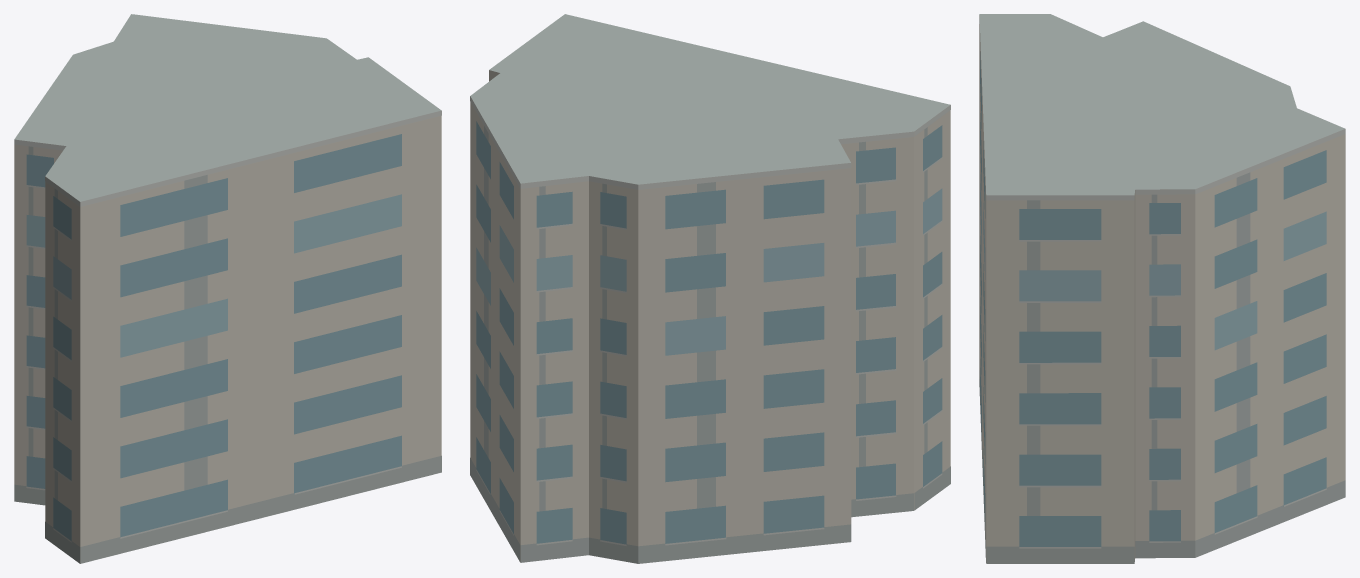
File: survey-upis-32886738.glb
3 views of the same model, side by side, from view 1: azimuth 30°, elevation 25°; view 2: azimuth 150°, elevation 25°; view 3: azimuth 270°, elevation 25° (orthographic). The views are drawn at different scales.
Visible parts, largest first — view 1: survey-upis-32886738.tmp; view 2: survey-upis-32886738.tmp; view 3: survey-upis-32886738.tmp.
Boxes of the visible parts, x1=… form: survey-upis-32886738.tmp: x1=14, y1=14, x2=441, y2=563; survey-upis-32886738.tmp: x1=470, y1=14, x2=950, y2=563; survey-upis-32886738.tmp: x1=979, y1=14, x2=1345, y2=563.
Size of the model in its own units: 18.49 by 17.5 by 15.76.
